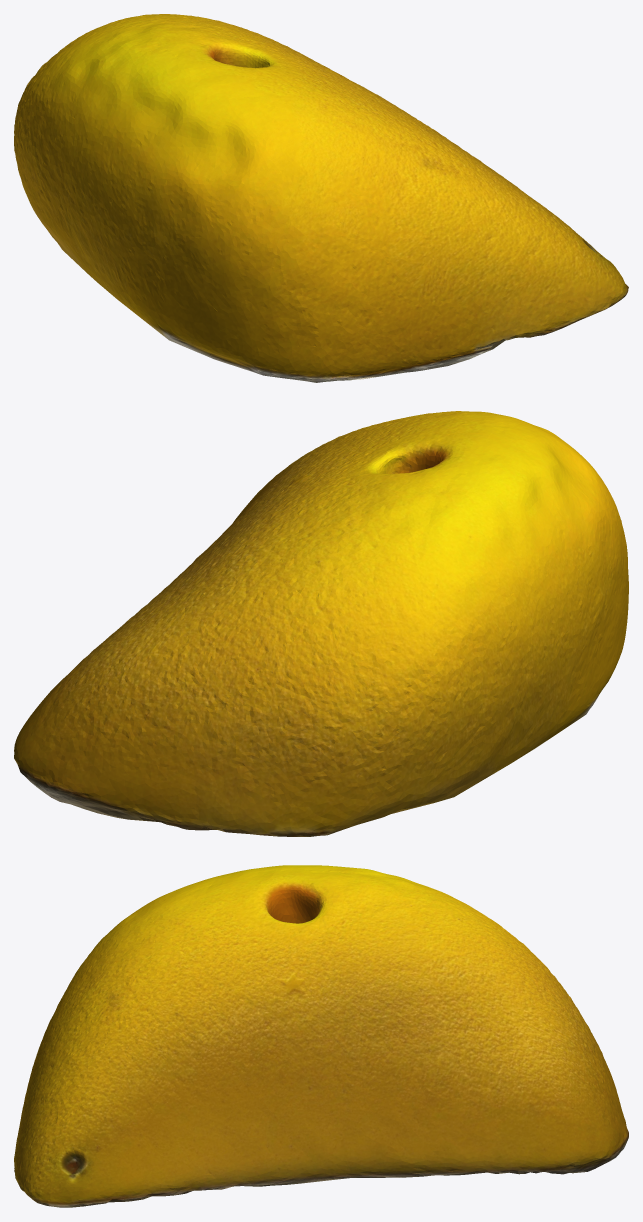
Rendered from Teknik_BigCurledSlopers_1_5_num4.glb.
The picture shows the model from 3 angles, top to bottom: view 1: azimuth 30°, elevation 25°; view 2: azimuth 150°, elevation 25°; view 3: azimuth 270°, elevation 25°; orthographic projection. The views are drawn at different scales.
Bounding box in the file's own units: 0.6179 × 0.3487 × 0.8859.
Materials: 1 (1 with a texture image).
